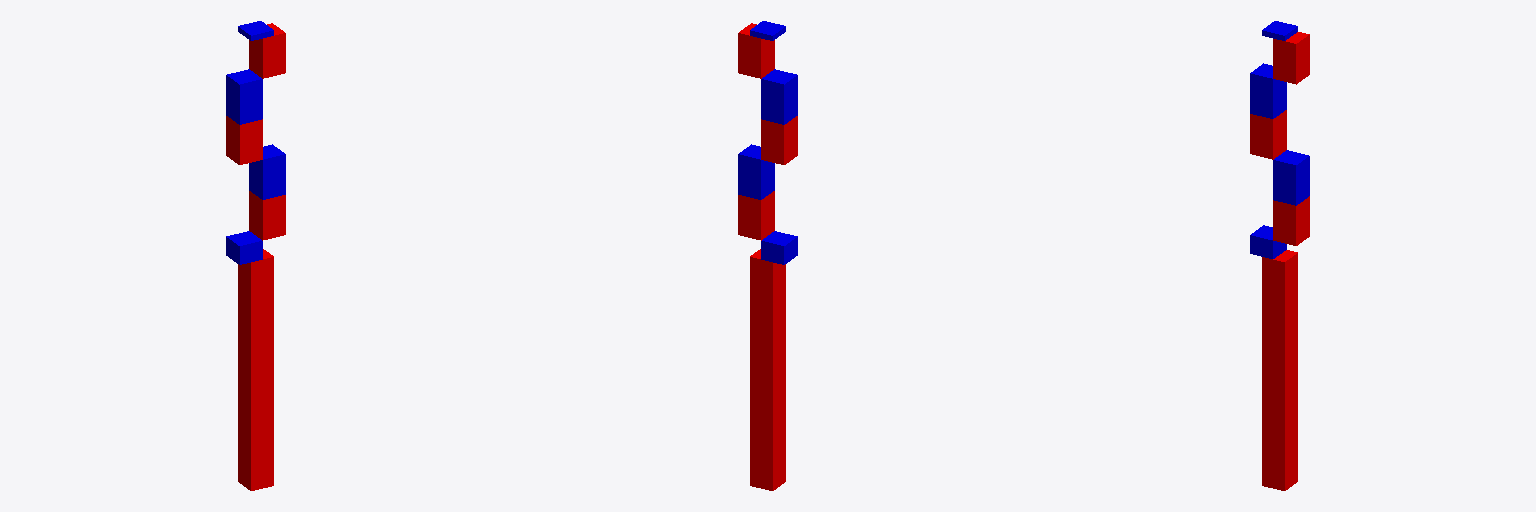
URDF robot description (armdemo):
<?xml version="1.0" ?>
<robot name="armdemo">

  <material name="red">
    <color rgba="1.0 0.0 0.0 1.0"/>
  </material>
  <material name="green">
    <color rgba="0.0 1.0 0.0 1.0"/>
  </material>
  <material name="blue">
    <color rgba="0.0 0.0 1.0 1.0"/>
  </material>

  <!-- base(world) -->
  <link name="base_link"/>
  
  <!-- base joint  -->
  <joint name="base_joint" type="fixed">
    <parent link="base_link"/>
    <child link="link1"/>
  </joint>
 
  <!-- Link1 link & joint -->
  <link name="link1">
    <collision>
      <origin rpy="0 0 0" xyz="0 0 0.425"/>
      <geometry>
        <box size="0.09 0.09 0.85"/>
      </geometry>
    </collision>
    <visual>
      <origin rpy="0 0 0" xyz="0 0 0.425"/>
      <geometry>
        <box size="0.09 0.09 0.85"/>
      </geometry>
      <material name="red"/>
    </visual>
    <inertial>
      <origin rpy="0 0 0" xyz="0 0 0"/>
      <mass value="50"/>
      <inertia ixx="0" ixy="0.1" ixz="0.0" iyy="1" iyz="0.0" izz="0.1"/>
    </inertial>
  </link>
   <joint name="joint1" type="revolute">
    <parent link="link1"/>
    <child link="link2"/>
    <origin rpy="0 0 0" xyz="0 0 0.85"/>
   
    <axis xyz="0 0 1"/>
    <dynamics damping="0.05"/>
    <limit effort="30" lower="-0.5" upper="2.56" velocity="1.74"/>
  </joint>
  
  <!-- Link2 link & joint -->
  <link name="link2">
    <collision>
      <origin rpy="0 0 0" xyz="-0.045 0 0.035"/>
      <geometry>
        <box size="0.09 0.09 0.07"/>
      </geometry>
    </collision>
    <visual>
      <origin rpy="0 0 0" xyz="-0.045 0 0.035"/>
      <geometry>
        <box size="0.09 0.09 0.07"/>
      </geometry>
      <material name="blue"/>
    </visual>
    <inertial>
      <origin rpy="0 0 0" xyz="0 0 0.1"/>
      <mass value="0.1"/>
      <inertia ixx="0.01" ixy="0.0" ixz="0.0" iyy="0.01" iyz="0.0" izz="0.01"/>
    </inertial>
  </link>
  <!-- joint2 -->
  <joint name="joint2" type="revolute">
    <parent link="link2"/>
    <child link="link3"/>
    <origin rpy="0 0 0" xyz="0 0 0.07"/>
   
    <axis xyz="1 0 0"/>
    <dynamics damping="0.05"/>
    <limit effort="30" lower="-1.65" upper="0.27" velocity="1.74"/>
  </joint>
  
  <!-- Link3 link & joint -->
 
  <link name="link3">
    <collision>
      <origin rpy="0 0 0" xyz="0.045 0 0.075"/>
      <geometry>
        <box size="0.09 0.09 0.15"/>
      </geometry>
    </collision>
    <visual>
      <origin rpy="0 0 0" xyz="0.045 0 0.075"/>
      <geometry>
        <box size="0.09 0.09 0.15"/>
      </geometry>
      <material name="red"/>
    </visual>
    <inertial>
      <origin rpy="0 0 0" xyz="0.045 0 0.1"/>
      <mass value="0.1"/>
       <inertia ixx="0.01" ixy="0.0" ixz="0.0" iyy="0.01" iyz="0.0" izz="0.01"/>
    </inertial>
  </link>
  <!-- joint3 -->
  <joint name="joint3" type="revolute">
    <parent link="link3"/>
    <child link="link4"/>
    <origin rpy="0 0 0" xyz="0 0 0.15"/>

    <axis xyz="0 0 1"/>
    <dynamics damping="0.1"/>
    <limit effort="30" lower="-2.87" upper="2.87" velocity="2.09"/>
  </joint>

  <!-- Link4 link & joint -->
 
  <link name="link4">
    <collision>
      <origin rpy="0 0 0" xyz="0.045 0 0.075"/>
      <geometry>
        <box size="0.09 0.09 0.15"/>
      </geometry>
    </collision>
    <visual>
      <origin rpy="0 0 0" xyz="0.045 0 0.075"/>
      <geometry>
        <box size="0.09 0.09 0.15"/>
      </geometry>
      <material name="blue"/>
    </visual>
    <inertial>
      <origin rpy="0 0 0" xyz="0 0 0.1"/>
      <mass value="0.1"/>
       <inertia ixx="0.01" ixy="0.0" ixz="0.0" iyy="0.01" iyz="0.0" izz="0.01"/>
    </inertial>
  </link>
  <joint name="joint4" type="revolute">
    <parent link="link4"/>
    <child link="link5"/>
    <origin rpy="0 0 0" xyz="0 0 0.15"/>
 
    <axis xyz="1 0 0"/>
    <dynamics damping="0.1"/>
    <limit effort="30" lower="-2.18" upper="2.18" velocity="2.09"/>
  </joint>

  <!-- Link5 link & joint -->
  <link name="link5">
        <collision>
      <origin rpy="0 0 0" xyz="-0.045 0 0.075"/>
      <geometry>
        <box size="0.09 0.09 0.15"/>
      </geometry>
    </collision>
    <visual>
      <origin rpy="0 0 0" xyz="-0.045 0 0.075"/>
      <geometry>
        <box size="0.09 0.09 0.15"/>
      </geometry>
      <material name="red"/>
    </visual>
    <inertial>
      <origin rpy="0 0 0" xyz="0 0 0.1"/>
      <mass value="0.1"/>
       <inertia ixx="0.01" ixy="0.0" ixz="0.0" iyy="0.01" iyz="0.0" izz="0.01"/>
    </inertial>
  </link>
  <joint name="joint5" type="revolute">
    <parent link="link5"/>
    <child link="link6"/>
    <origin rpy="0 0 0" xyz="0 0 0.15"/>
 
    <axis xyz="0 0 1"/>
    <dynamics damping="0.1"/>
    <limit effort="30" lower="-2.87" upper="2.87" velocity="2.79"/>
  </joint>
  
  <!-- Link6 link & joint -->
  
  <link name="link6">
    <collision>
      <origin rpy="0 0 0" xyz="-0.045 0 0.075"/>
      <geometry>
        <box size="0.09 0.09 0.15"/>
      </geometry>
    </collision>
    <visual>
      <origin rpy="0 0 0" xyz="-0.045 0 0.075"/>
      <geometry>
        <box size="0.09 0.09 0.15"/>
      </geometry>
      <material name="blue"/>
    </visual>
    <inertial>
      <origin rpy="0 0 0" xyz="0 0 0.1"/>
      <mass value="0.1"/>
       <inertia ixx="0.01" ixy="0.0" ixz="0.0" iyy="0.01" iyz="0.0" izz="0.01"/>
    </inertial>
  </link>
  <joint name="joint6" type="revolute">
    <parent link="link6"/>
    <child link="link7"/>
    <origin rpy="0 0 0" xyz="0 0 0.15"/>
    <axis xyz="1 0 0"/>
    <dynamics damping="0.1"/>
    <limit effort="30" lower="-2.09" upper="2.09" velocity="2.79"/>
  </joint>

  <!-- Link7 link & joint -->
  <link name="link7">
    <collision>
      <origin rpy="0 0 0" xyz="0.045 0 0.075"/>
      <geometry>
        <box size="0.09 0.09 0.15"/>
      </geometry>
    </collision>
    <visual>
      <origin rpy="0 0 0" xyz="0.045 0 0.075"/>
      <geometry>
        <box size="0.09 0.09 0.15"/>
      </geometry>
      <material name="red"/>
    </visual>
    <inertial>
      <origin rpy="0 0 0" xyz="0 0 0.1"/>
      <mass value="0.1"/>
       <inertia ixx="0.01" ixy="0.0" ixz="0.0" iyy="0.01" iyz="0.0" izz="0.01"/>
    </inertial>
  </link>
  <joint name="joint7" type="revolute">
    <parent link="link7"/>
    <child link="link8"/>
    <origin rpy="0 0 0" xyz="0 0 0.15"/>
    <axis xyz="0 0 1"/>
    <dynamics damping="0.1"/>
    <limit effort="30" lower="-2.96" upper="2.96" velocity="4.18"/>
  </joint>

 <!-- Link8 (end effector)-->
  <link name="link8">
    <collision>
      <origin rpy="0 0 0" xyz="0 0 0.01"/>
      <geometry>
        <box size="0.09 0.09 0.02"/>
      </geometry>
    </collision>
    <visual>
      <origin rpy="0 0 0" xyz="0 0 0.01"/>
      <geometry>
        <box size="0.09 0.09 0.02"/>
      </geometry>
      <material name="blue"/>
    </visual>
    <inertial>
      <origin rpy="0 0 0" xyz="0 0 0.01"/>
      <mass value="0.1"/>
        <inertia ixx="0.01" ixy="0.0" ixz="0.0" iyy="0.01" iyz="0.0" izz="0.01"/>
    </inertial>
  </link>

  <transmission name="link1_trans">
    <type>transmission_interface/SimpleTransmission</type>
      <joint name="joint1">
      <hardwareInterface>hardware_interface/EffortJointInterface</hardwareInterface>
    </joint>
    <actuator name="link1_motor">
      <hardwareInterface>hardware_interface/EffortJointInterface</hardwareInterface>
      <mechanicalReduction>1</mechanicalReduction>
    </actuator>
  </transmission>
  <transmission name="link2_trans">
    <type>transmission_interface/SimpleTransmission</type>
      <joint name="joint2">
      <hardwareInterface>hardware_interface/EffortJointInterface</hardwareInterface>
    </joint>
    <actuator name="link2_motor">
      <hardwareInterface>hardware_interface/EffortJointInterface</hardwareInterface>
      <mechanicalReduction>1</mechanicalReduction>
    </actuator>
  </transmission>
  <transmission name="link3_trans">
    <type>transmission_interface/SimpleTransmission</type>
      <joint name="joint3">
      <hardwareInterface>hardware_interface/EffortJointInterface</hardwareInterface>
    </joint>
    <actuator name="link3_motor">
      <hardwareInterface>hardware_interface/EffortJointInterface</hardwareInterface>
      <mechanicalReduction>1</mechanicalReduction>
    </actuator>
  </transmission>
  <transmission name="link4_trans">
    <type>transmission_interface/SimpleTransmission</type>
      <joint name="joint4">
      <hardwareInterface>hardware_interface/EffortJointInterface</hardwareInterface>
    </joint>
    <actuator name="link4_motor">
      <hardwareInterface>hardware_interface/EffortJointInterface</hardwareInterface>
      <mechanicalReduction>1</mechanicalReduction>
    </actuator>
  </transmission>
  <transmission name="link5_trans">
    <type>transmission_interface/SimpleTransmission</type>
      <joint name="joint5">
      <hardwareInterface>hardware_interface/EffortJointInterface</hardwareInterface>
    </joint>
    <actuator name="link5_motor">
      <hardwareInterface>hardware_interface/EffortJointInterface</hardwareInterface>
      <mechanicalReduction>1</mechanicalReduction>
    </actuator>
  </transmission>
  <transmission name="link6_trans">
    <type>transmission_interface/SimpleTransmission</type>
      <joint name="joint6">
      <hardwareInterface>hardware_interface/EffortJointInterface</hardwareInterface>
    </joint>
    <actuator name="link6_motor">
      <hardwareInterface>hardware_interface/EffortJointInterface</hardwareInterface>
      <mechanicalReduction>1</mechanicalReduction>
    </actuator>
  </transmission>
  <transmission name="link7_trans">
    <type>transmission_interface/SimpleTransmission</type>
      <joint name="joint7">
      <hardwareInterface>hardware_interface/EffortJointInterface</hardwareInterface>
    </joint>
    <actuator name="link7_motor">
      <hardwareInterface>hardware_interface/EffortJointInterface</hardwareInterface>
      <mechanicalReduction>1</mechanicalReduction>
    </actuator>
  </transmission>
  <gazebo>
    <plugin name="gazebo_ros_control" filename="libgazebo_ros_control.so">
      <robotNamespace>/</robotNamespace>
      <robotSimType>gazebo_ros_control/DefaultRobotHWSim</robotSimType>
      <legacyModeNS>true</legacyModeNS>
    </plugin>
  </gazebo>

</robot>

--- Facts derived from the render (not from the file) ---
3 views of the same robot in one strip: view 1: azimuth 30°, elevation 25°; view 2: azimuth 150°, elevation 25°; view 3: azimuth 330°, elevation 25° (orthographic).
Model armdemo with 9 links and 8 joints (7 revolute, 1 fixed), rooted at base_link, posed every joint at zero.
Links seen in each view (by area): view 1: link1, link6, link4, link7, link3, link5, link2; view 2: link1, link6, link4, link7, link3, link5, link2; view 3: link1, link4, link7, link6, link3, link5, link2.
Link boxes in pixels (box(x1,y1,x2,y2)): link1: box(238, 249, 273, 490); link6: box(226, 69, 262, 124); link4: box(249, 144, 285, 199); link7: box(249, 23, 285, 78); link3: box(249, 191, 285, 240); link5: box(226, 116, 262, 164); link2: box(226, 231, 262, 264); link1: box(750, 249, 785, 490); link6: box(761, 69, 797, 124); link4: box(738, 144, 774, 199); link7: box(738, 23, 774, 78); link3: box(738, 191, 774, 240); link5: box(761, 116, 797, 164); link2: box(761, 231, 797, 264); link1: box(1262, 250, 1297, 490); link4: box(1273, 150, 1309, 205); link7: box(1273, 32, 1309, 84); link6: box(1250, 63, 1286, 118); link3: box(1273, 196, 1309, 245); link5: box(1250, 110, 1286, 159); link2: box(1250, 225, 1286, 258).
Bounding box of the posed robot: 0.18 × 0.09 × 1.69 m (x, y, z).
Geometry: primitives only (box / cylinder / sphere), no mesh files.
